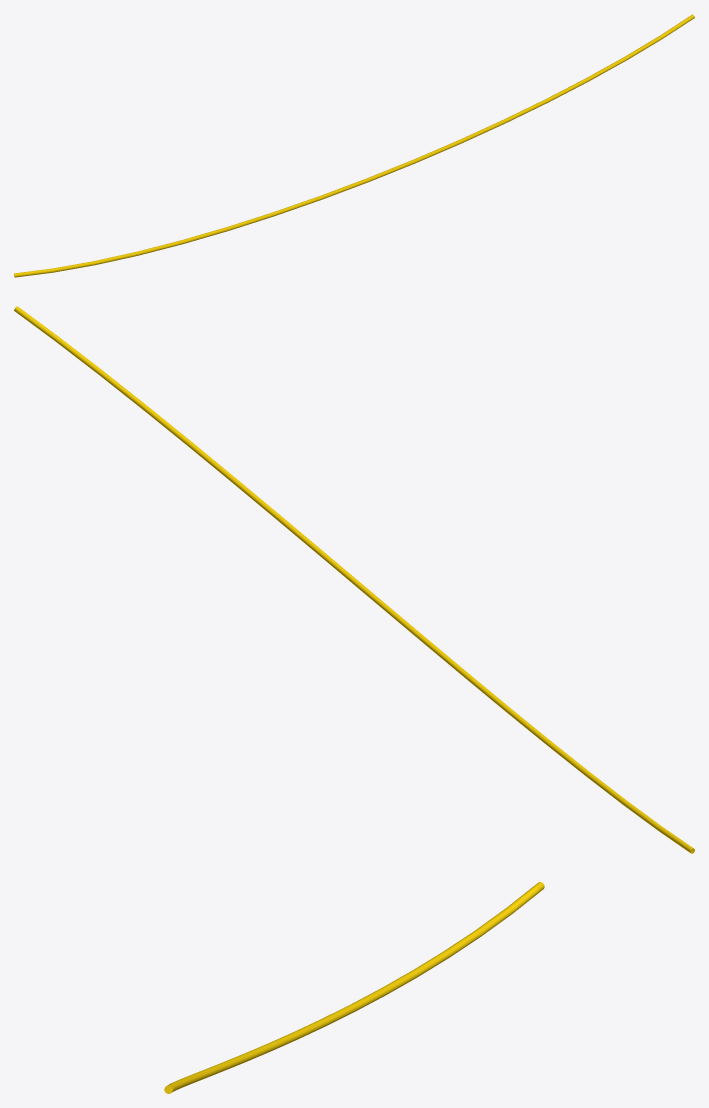
File: Event_421278790_track_2.fbx
3 renders of one model, top to bottom at view 1: azimuth 30°, elevation 25°; view 2: azimuth 150°, elevation 25°; view 3: azimuth 270°, elevation 25°, orthographic. The views are drawn at different scales.
Visible parts, largest first — view 1: Model; view 2: Model; view 3: Model.
Boxes of the visible parts, x1,y1,x2,y2 form: Model: [14, 14, 694, 277]; Model: [14, 306, 694, 853]; Model: [164, 882, 544, 1093].
Bounding box in the file's own units: 6.34 × 1.94 × 1.78.
